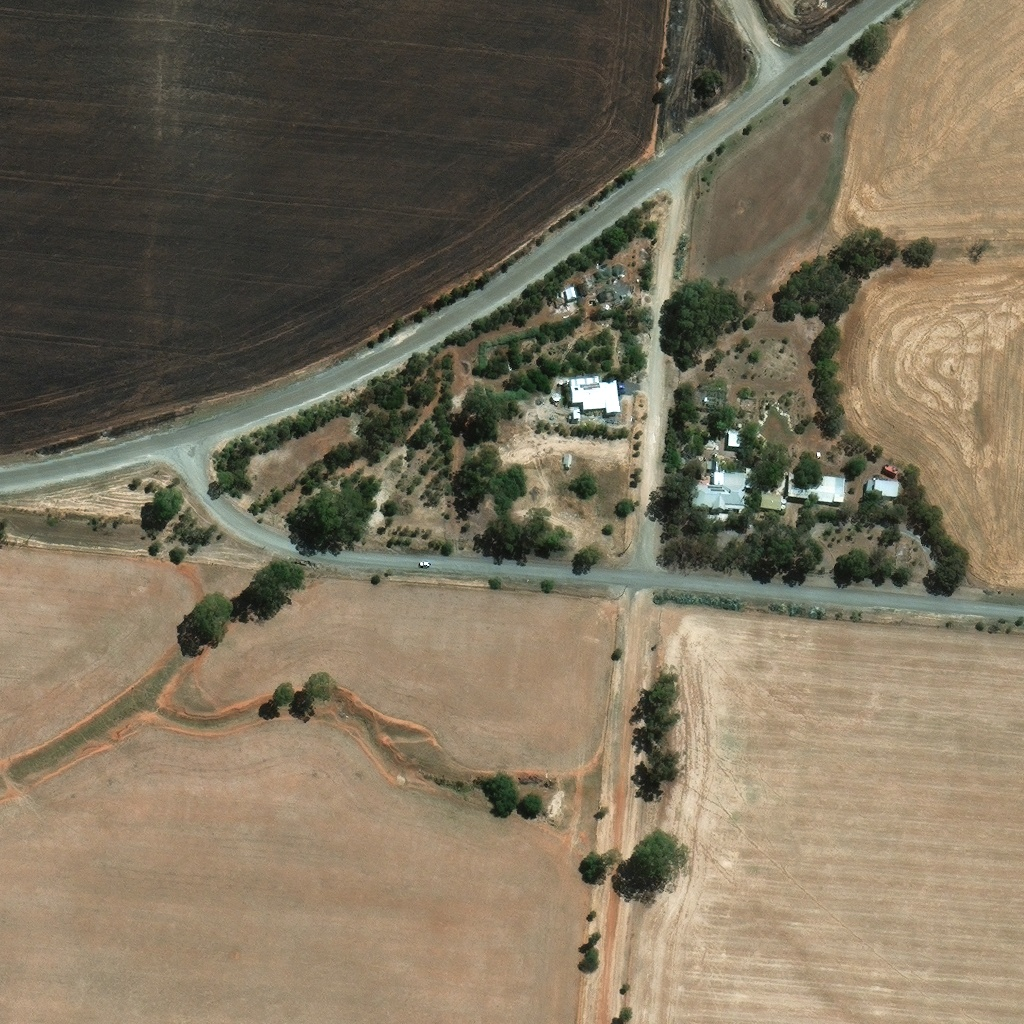0 no-damage: (691, 471, 745, 511), (788, 471, 845, 502), (571, 375, 608, 402), (866, 479, 899, 496), (760, 489, 781, 510), (728, 428, 744, 447), (582, 397, 609, 408), (883, 462, 900, 475), (573, 408, 583, 420), (564, 453, 573, 466), (551, 389, 562, 399), (560, 372, 572, 381), (781, 504, 787, 510), (781, 498, 787, 503), (571, 401, 576, 405)
2 major-damage: (554, 294, 566, 306)
3 destroyed: (576, 282, 589, 293)
